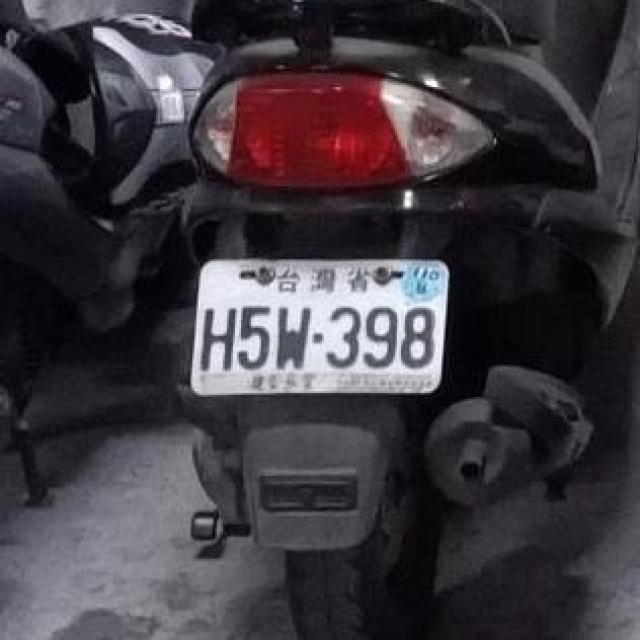W: (180, 241, 460, 409)
